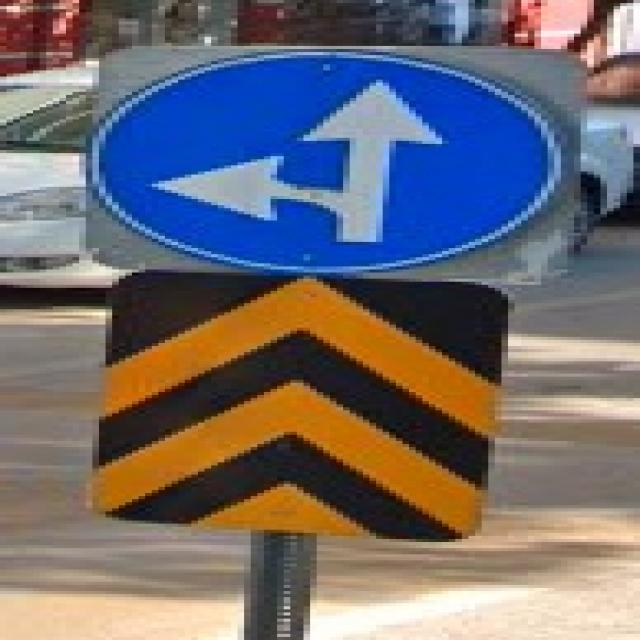Straight or Left: (87, 49, 562, 275)
